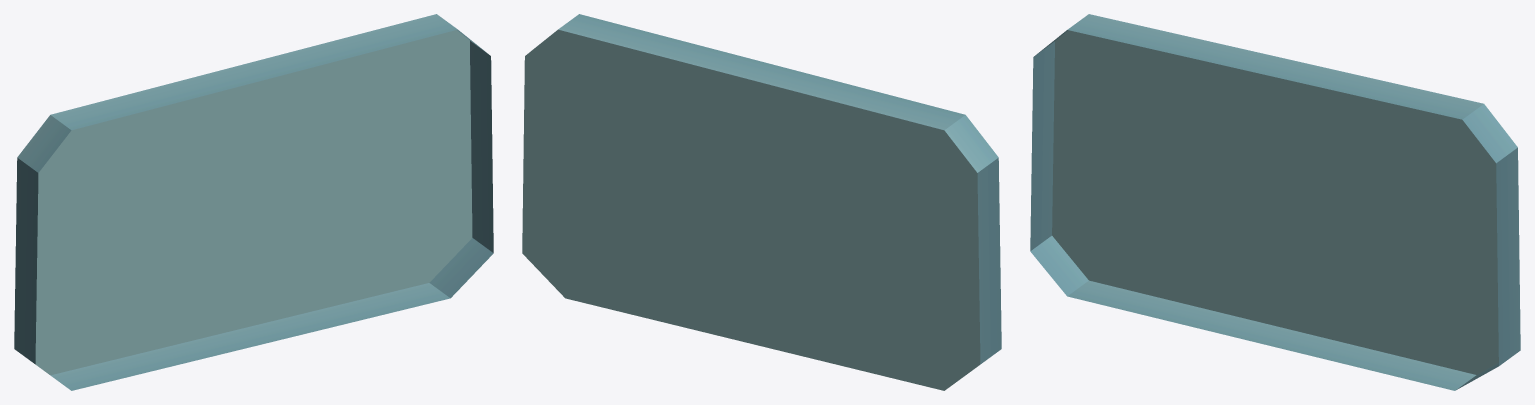
Rendered from Stone Step 01.FBX.
The picture shows the model from 3 angles, left to right: view 1: azimuth 30°, elevation 25°; view 2: azimuth 150°, elevation 25°; view 3: azimuth 330°, elevation 25°; orthographic projection. The views are drawn at different scales.
Visible parts, largest first — view 1: Stone Step 01; view 2: Stone Step 01; view 3: Stone Step 01.
Boxes of the visible parts, x1,y1,x2,y2 form: Stone Step 01: [14, 14, 493, 390]; Stone Step 01: [522, 14, 1001, 390]; Stone Step 01: [1030, 14, 1520, 390].
Size of the model in its own units: 116 by 64.48 by 9.31.
Materials: 1 (1 with a texture image).
